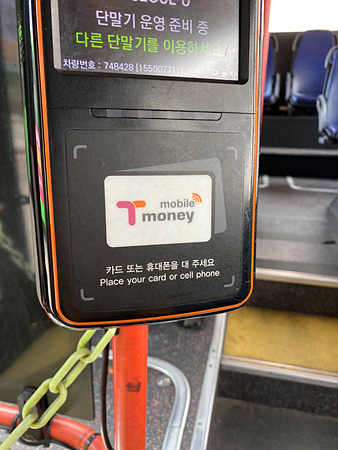terminal: (24, 11, 254, 318)
